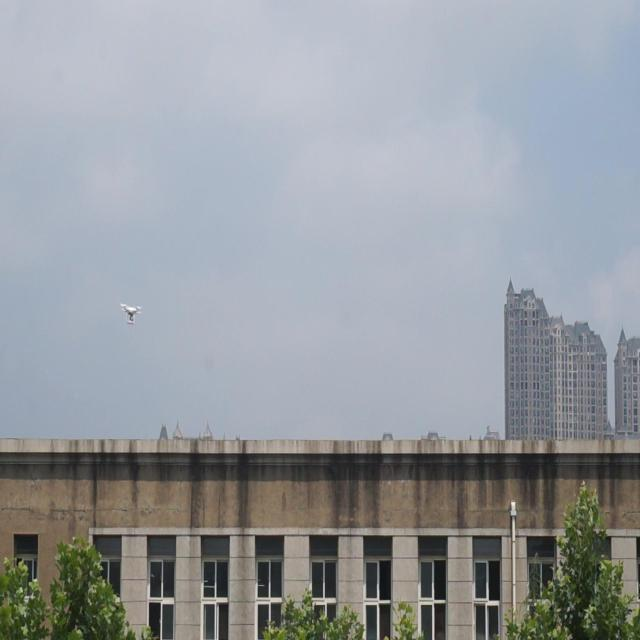drone: (118, 298, 144, 329)
